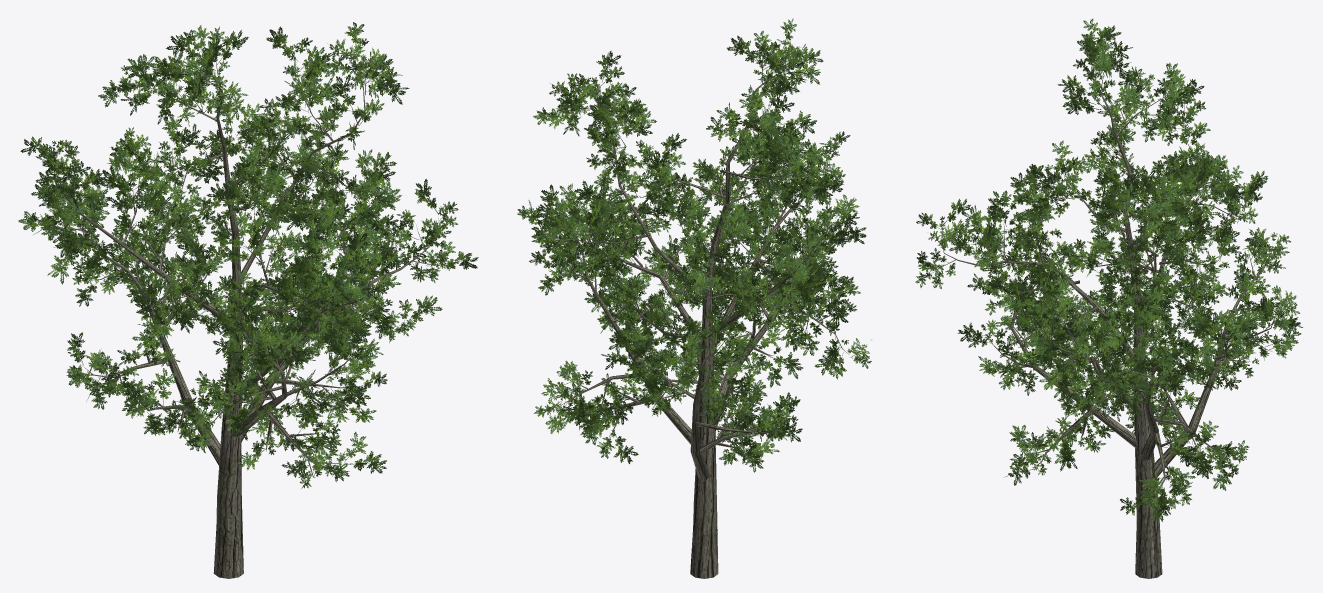
The model's file is tree_LOD1.glb.
3 views of the same model, side by side, from view 1: azimuth 30°, elevation 25°; view 2: azimuth 150°, elevation 25°; view 3: azimuth 270°, elevation 25° (orthographic). The views are drawn at different scales.
Visible parts, largest first — view 1: Leaves_LOD1, Branches_LOD1; view 2: Leaves_LOD1, Branches_LOD1; view 3: Leaves_LOD1, Branches_LOD1.
Part boxes in pixels (x1,y1,x2,y2): Leaves_LOD1: (18, 22, 478, 488); Branches_LOD1: (54, 53, 440, 578); Leaves_LOD1: (517, 18, 871, 472); Branches_LOD1: (537, 59, 851, 578); Leaves_LOD1: (915, 18, 1302, 521); Branches_LOD1: (930, 45, 1285, 578).
Size of the model in its own units: 61.41 by 84.54 by 57.84.
2 materials, 2 textured.
